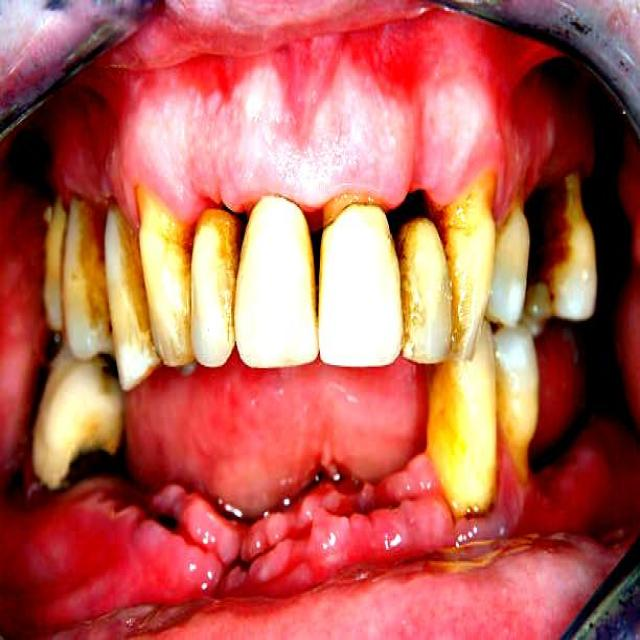caries: (54, 421, 124, 500)
